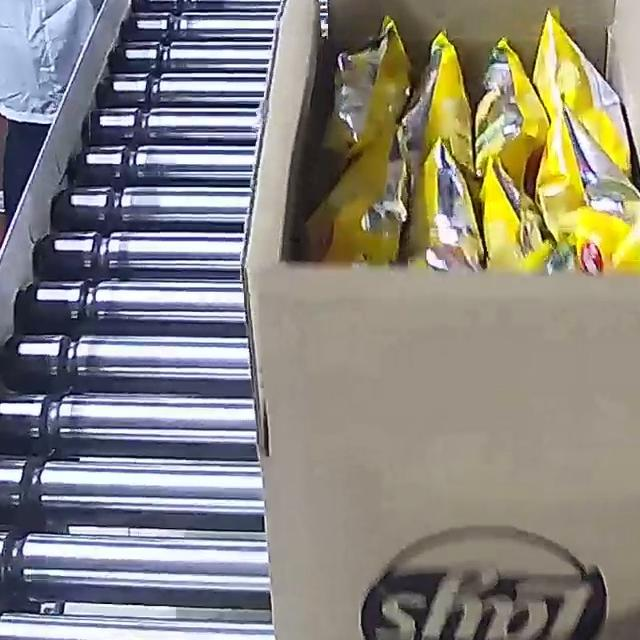salted: (305, 0, 640, 295)
